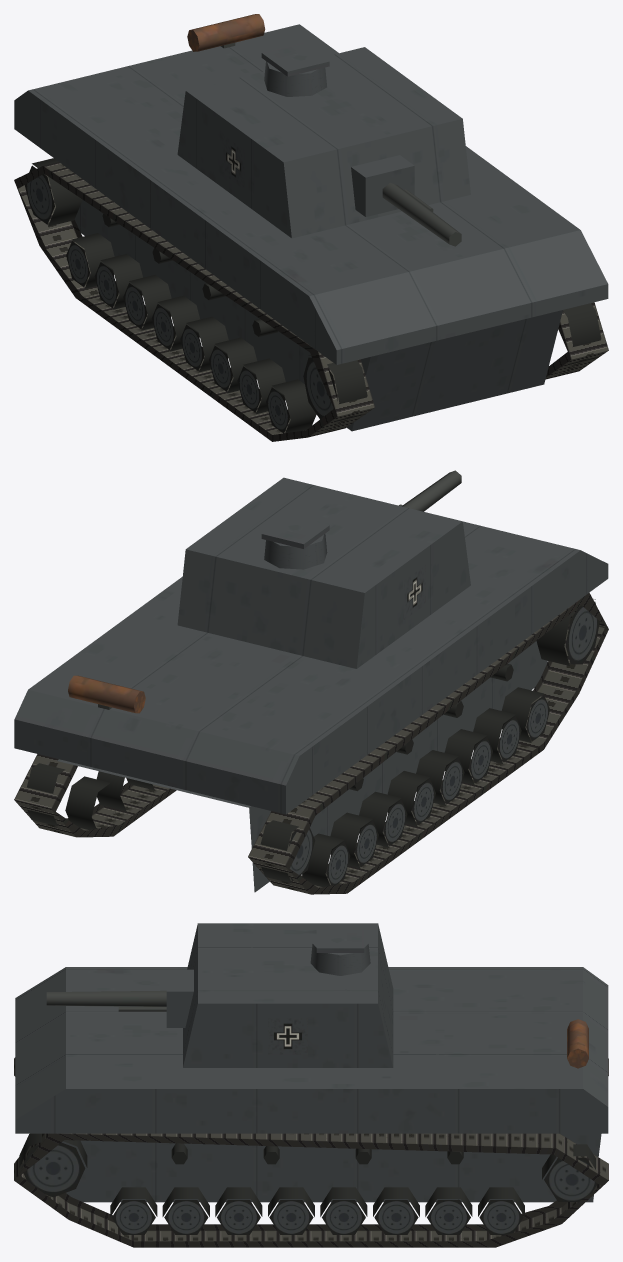
File: armor-2.glb
3 renders of one model, top to bottom at view 1: azimuth 30°, elevation 25°; view 2: azimuth 150°, elevation 25°; view 3: azimuth 270°, elevation 25°, orthographic. The views are drawn at different scales.
Visible parts, largest first — view 1: hull, turret, tracks_right, gun, barbotin_right, roue_folle_right, galet_right_8, galet_right_5, galet_right_7, galet_right_6, galet_right_1, galet_right_4 (+5 smaller); view 2: hull, turret, tracks_right, tracks_left, barbotin_right, galet_right_1, galet_right_3, galet_right_6, galet_right_7, galet_right_5, galet_right_4, galet_right_8 (+7 smaller); view 3: hull, turret, tracks_left, gun, barbotin_left, roue_folle_left, galet_left_7, galet_left_2, galet_left_6, galet_left_4, galet_left_8, galet_left_5 (+3 smaller).
Part boxes in pixels (left/top/right/bottom): hull: left=14, top=14, right=608, bottom=431; turret: left=177, top=47, right=470, bottom=238; tracks_right: left=14, top=162, right=374, bottom=441; gun: left=351, top=155, right=461, bottom=246; barbotin_right: left=303, top=355, right=367, bottom=421; roue_folle_right: left=24, top=158, right=82, bottom=226; galet_right_8: left=266, top=379, right=316, bottom=433; galet_right_5: left=180, top=316, right=228, bottom=372; galet_right_7: left=237, top=358, right=285, bottom=414; galet_right_6: left=209, top=337, right=257, bottom=393; galet_right_1: left=66, top=233, right=114, bottom=288; galet_right_4: left=151, top=295, right=200, bottom=351; hull: left=14, top=521, right=608, bottom=892; turret: left=177, top=477, right=470, bottom=668; tracks_right: left=248, top=592, right=608, bottom=894; tracks_left: left=14, top=754, right=176, bottom=837; barbotin_right: left=536, top=599, right=599, bottom=665; galet_right_1: left=302, top=833, right=350, bottom=886; galet_right_3: left=359, top=791, right=407, bottom=847; galet_right_6: left=444, top=729, right=492, bottom=784; galet_right_7: left=473, top=708, right=521, bottom=763; galet_right_5: left=416, top=750, right=464, bottom=805; galet_right_4: left=387, top=771, right=435, bottom=826; galet_right_8: left=501, top=687, right=549, bottom=742; hull: left=15, top=967, right=608, bottom=1202; turret: left=183, top=923, right=393, bottom=1067; tracks_left: left=14, top=1133, right=608, bottom=1247; gun: left=46, top=969, right=193, bottom=1027; barbotin_left: left=19, top=1133, right=87, bottom=1197; roue_folle_left: left=542, top=1144, right=597, bottom=1201; galet_left_7: left=162, top=1187, right=209, bottom=1234; galet_left_2: left=425, top=1187, right=472, bottom=1234; galet_left_6: left=215, top=1187, right=262, bottom=1234; galet_left_4: left=320, top=1187, right=367, bottom=1234; galet_left_8: left=110, top=1187, right=157, bottom=1234; galet_left_5: left=268, top=1187, right=314, bottom=1234.
Size of the model in its own units: 2.88 by 2.73 by 5.94.
5 materials, 5 textured.
